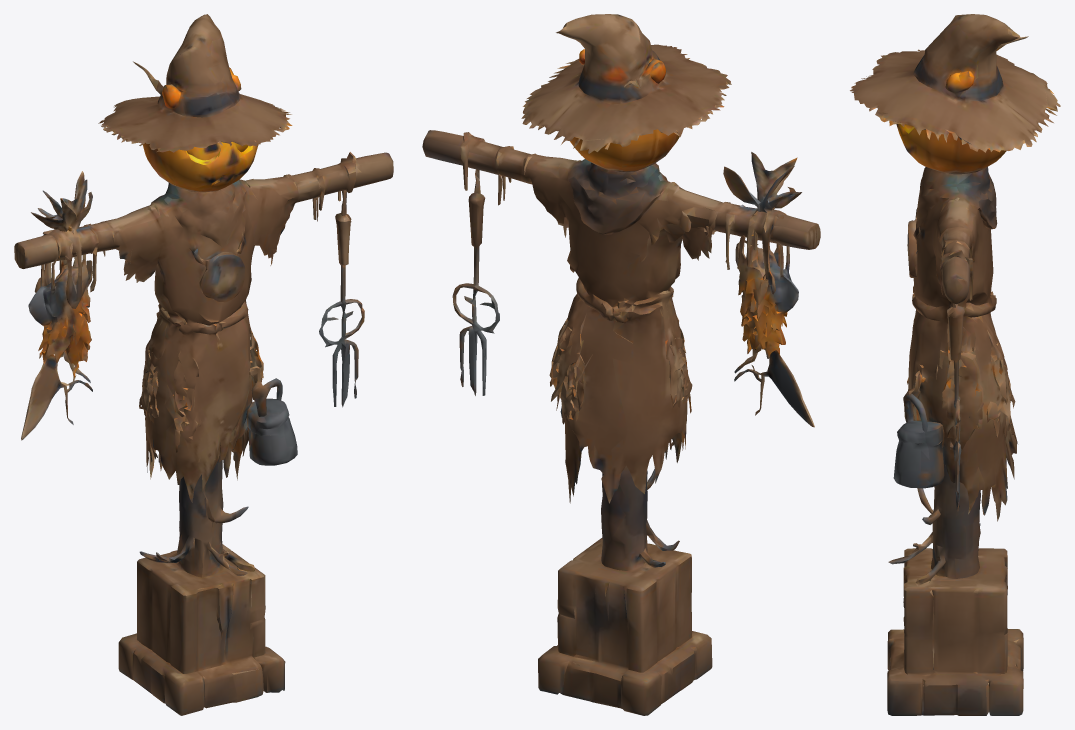
File: Scarecrow.glb
3 views of the same model, side by side, from view 1: azimuth 30°, elevation 25°; view 2: azimuth 150°, elevation 25°; view 3: azimuth 270°, elevation 25° (orthographic). The views are drawn at different scales.
Visible parts, largest first — view 1: Scarecrow; view 2: Scarecrow; view 3: Scarecrow.
Part boxes in pixels (x1,y1,x2,y2): Scarecrow: (14,14,393,715); Scarecrow: (422,14,820,715); Scarecrow: (850,14,1060,715).
Size of the model in its own units: 1.46 by 2.4 by 0.6772.
Materials: 1 (1 with a texture image).
